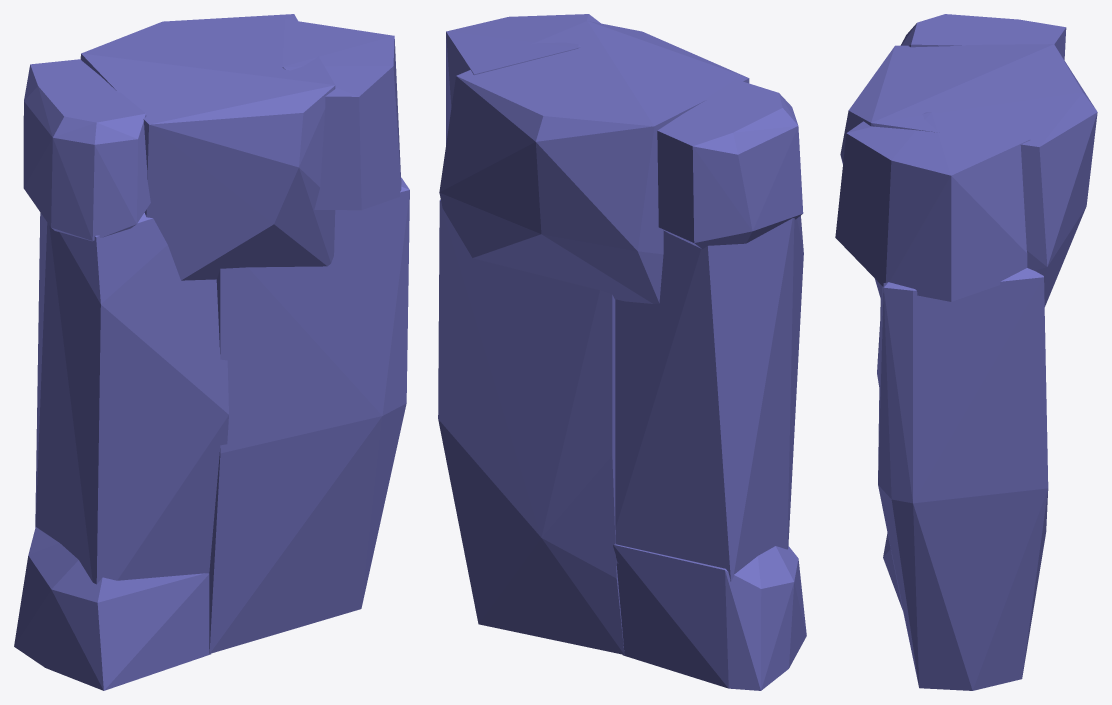
File: Cliff_Sediment_04_Collider_01.FBX
The picture shows the model from 3 angles, left to right: view 1: azimuth 30°, elevation 25°; view 2: azimuth 150°, elevation 25°; view 3: azimuth 270°, elevation 25°; orthographic projection. The views are drawn at different scales.
Visible parts, largest first — view 1: COLLIDER4, COLLIDER6, COLLIDER1, COLLIDER5, COLLIDER3, COLLIDER2; view 2: COLLIDER4, COLLIDER6, COLLIDER1, COLLIDER5, COLLIDER3, COLLIDER2; view 3: COLLIDER4, COLLIDER2, COLLIDER1, COLLIDER3, COLLIDER5.
Part boxes in pixels (bbox=[...]): COLLIDER4: bbox=[209, 177, 409, 653]; COLLIDER6: bbox=[35, 212, 228, 584]; COLLIDER1: bbox=[80, 14, 335, 280]; COLLIDER5: bbox=[14, 527, 210, 690]; COLLIDER3: bbox=[23, 59, 150, 241]; COLLIDER2: bbox=[282, 19, 401, 210]; COLLIDER4: bbox=[438, 199, 624, 654]; COLLIDER6: bbox=[615, 215, 803, 581]; COLLIDER1: bbox=[439, 21, 749, 303]; COLLIDER5: bbox=[613, 544, 806, 690]; COLLIDER3: bbox=[657, 79, 803, 249]; COLLIDER2: bbox=[446, 14, 600, 144]; COLLIDER4: bbox=[878, 268, 1048, 690]; COLLIDER2: bbox=[835, 112, 1030, 301]; COLLIDER1: bbox=[840, 44, 1097, 306]; COLLIDER3: bbox=[900, 14, 1066, 59]; COLLIDER5: bbox=[883, 533, 902, 610].
Size of the model in its own units: 315 by 480 by 209.
